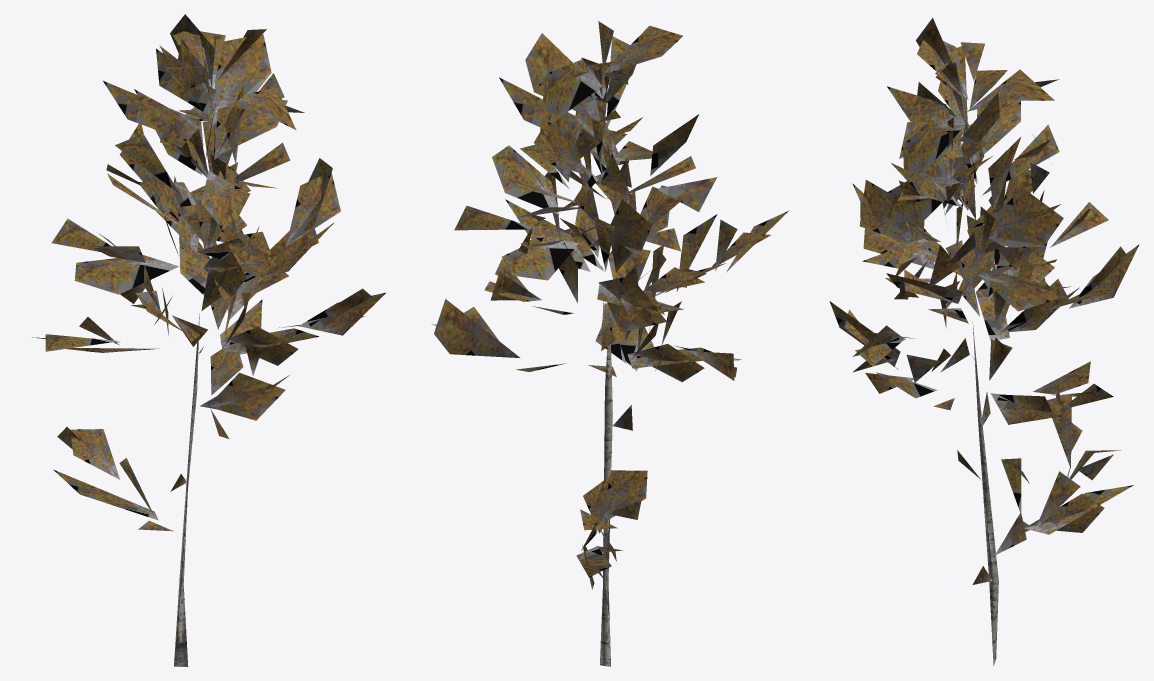
Rendered from tundra-birch-big-map.glb.
3 renders of one model, left to right at view 1: azimuth 30°, elevation 25°; view 2: azimuth 150°, elevation 25°; view 3: azimuth 270°, elevation 25°, orthographic. The views are drawn at different scales.
Parts seen in each view (by area): view 1: birch_big_tundra_LOD0; view 2: birch_big_tundra_LOD0; view 3: birch_big_tundra_LOD0.
Part boxes in pixels (x1,y1,x2,y2): birch_big_tundra_LOD0: [32, 14, 385, 666]; birch_big_tundra_LOD0: [431, 21, 789, 666]; birch_big_tundra_LOD0: [829, 18, 1139, 665].
Size of the model in its own units: 11.35 by 25.03 by 11.55.
1 material, 1 textured.
